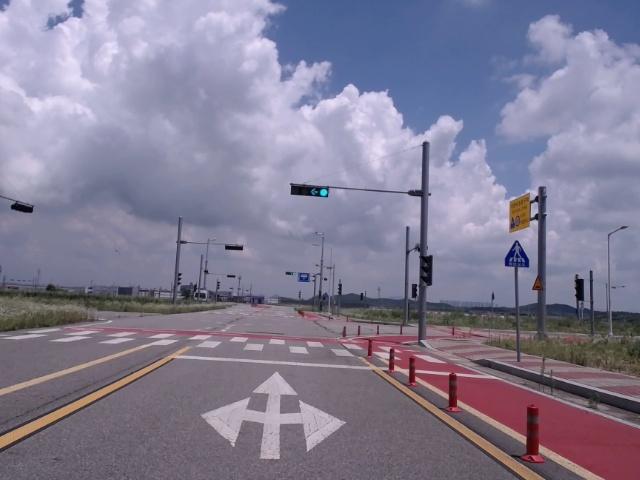all_green_4: (292, 184, 330, 196)
